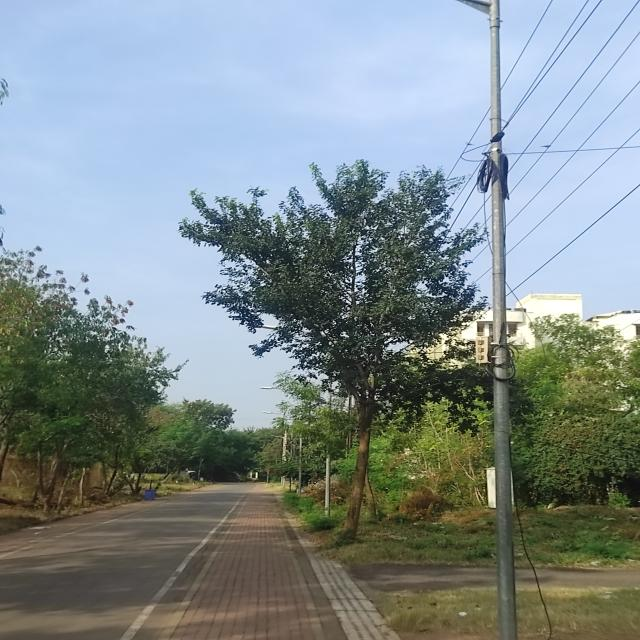Devakanchan tree: (223, 150, 432, 491)
